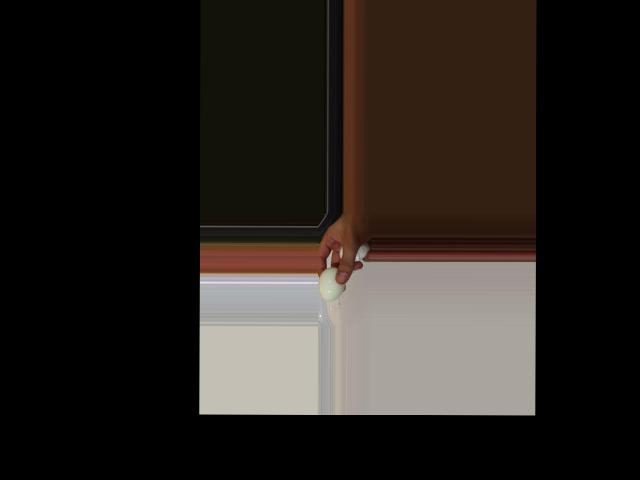egg: (318, 267, 345, 300)
